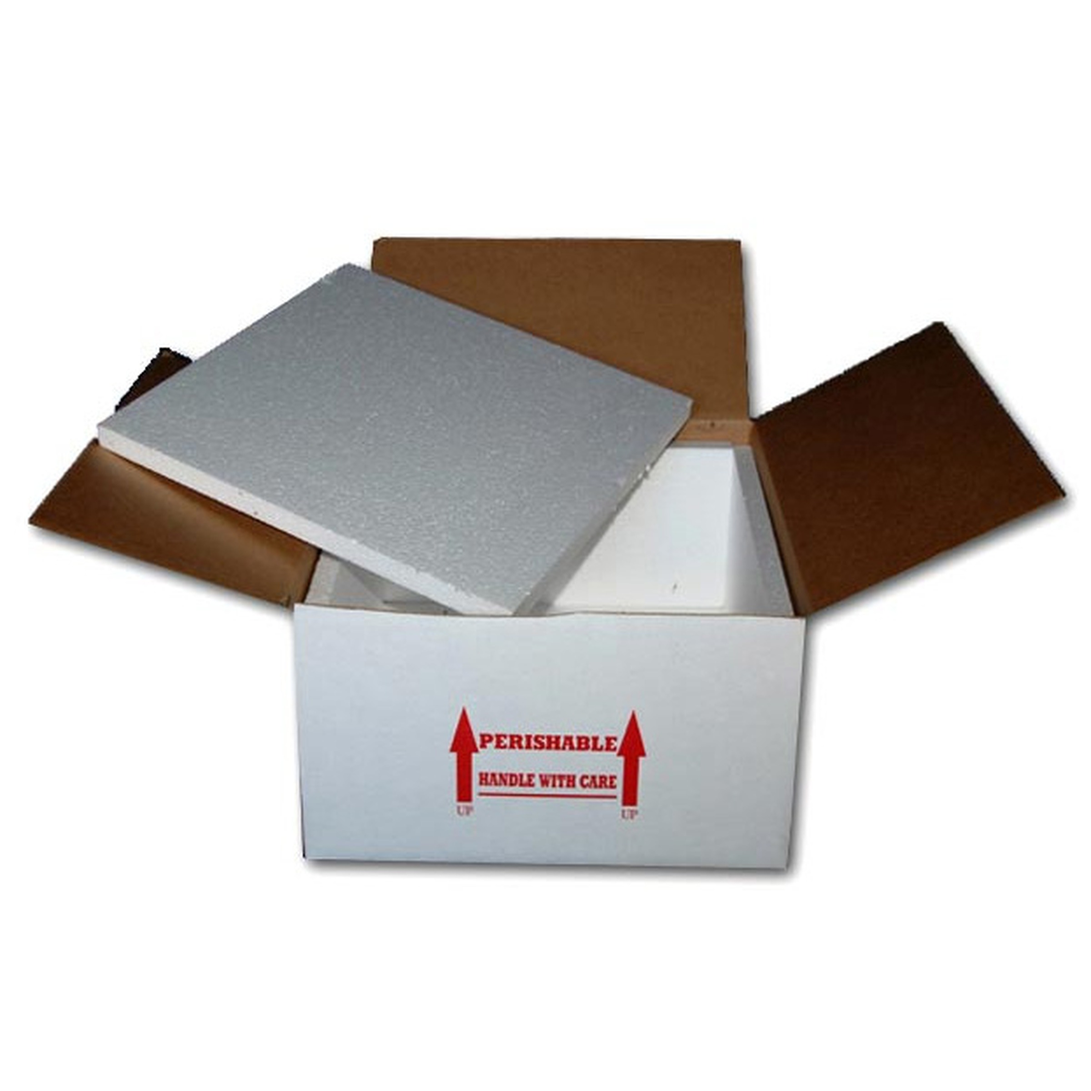泡沫箱: (95, 265, 794, 647)
